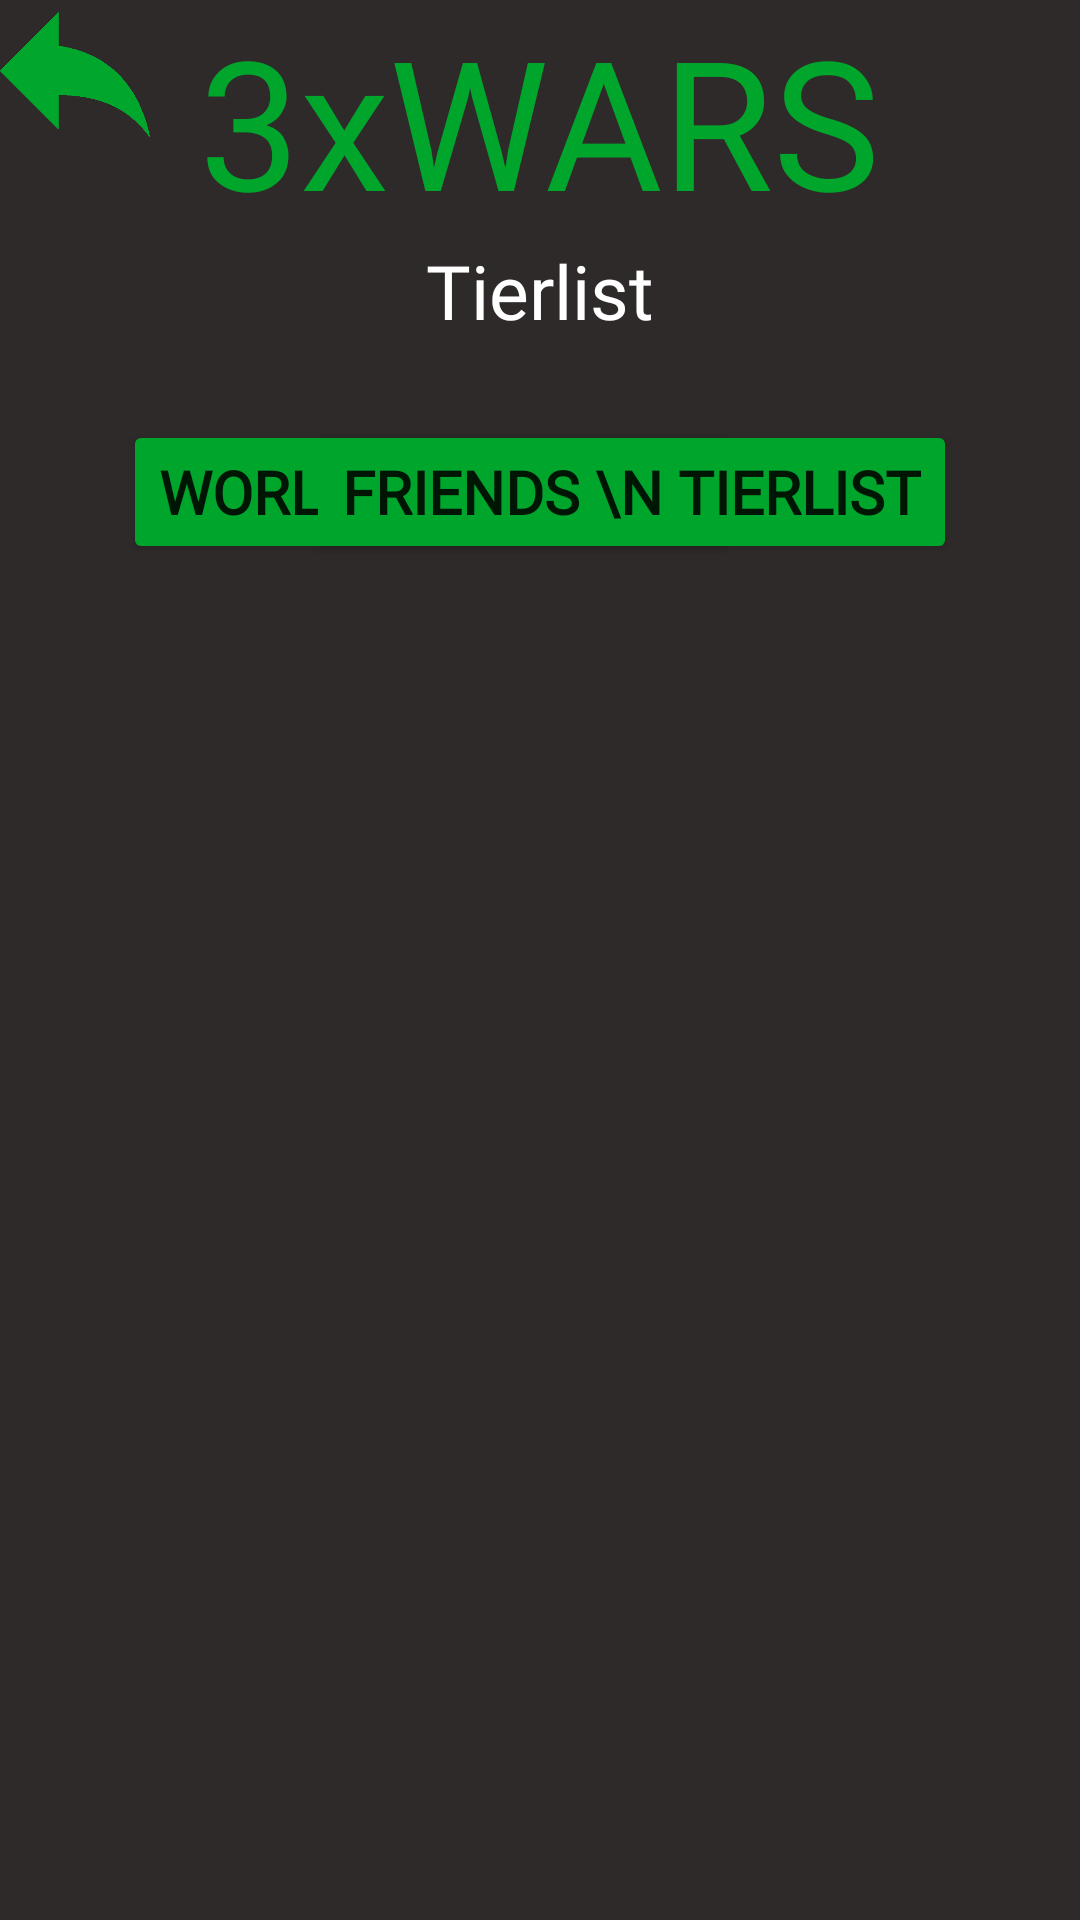

Locate icon controls on the screen. Image size 1080 × 1920, boxes as (x1, y1, x2, y2).
flecha: (0, 12, 150, 137)
